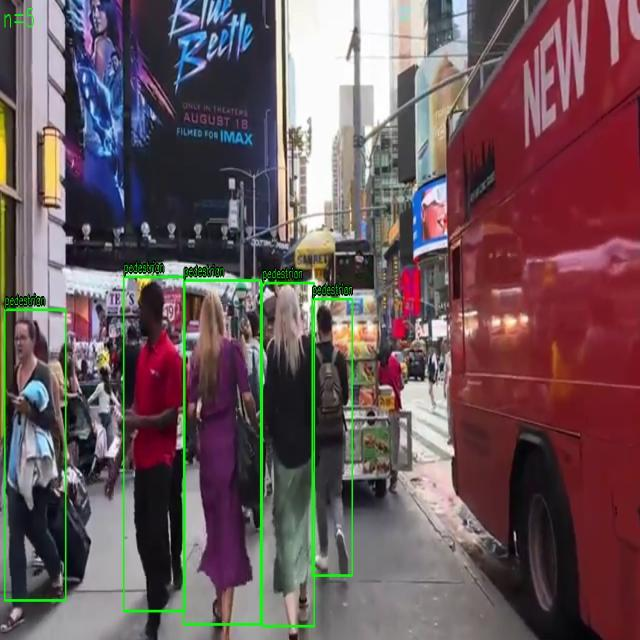with scooter: (183, 280, 261, 625), (123, 276, 185, 612), (4, 309, 66, 601), (262, 283, 314, 626), (312, 298, 352, 576)
